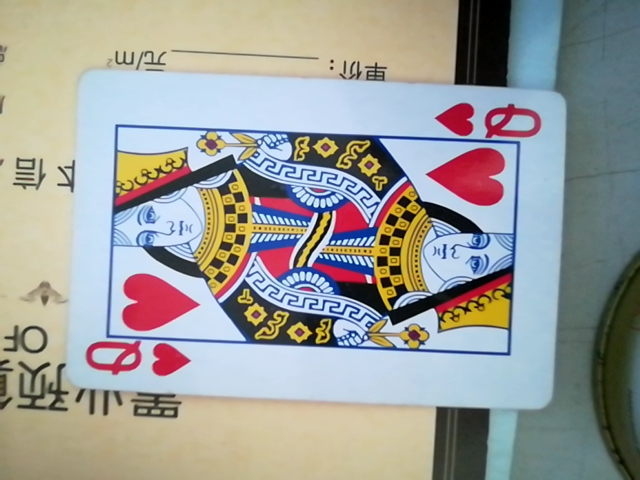hx q: (61, 68, 574, 414)
